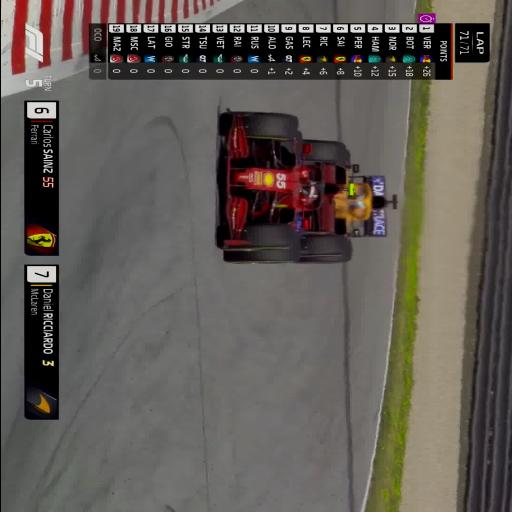f1_car: (217, 110, 324, 263), (296, 139, 396, 263)
